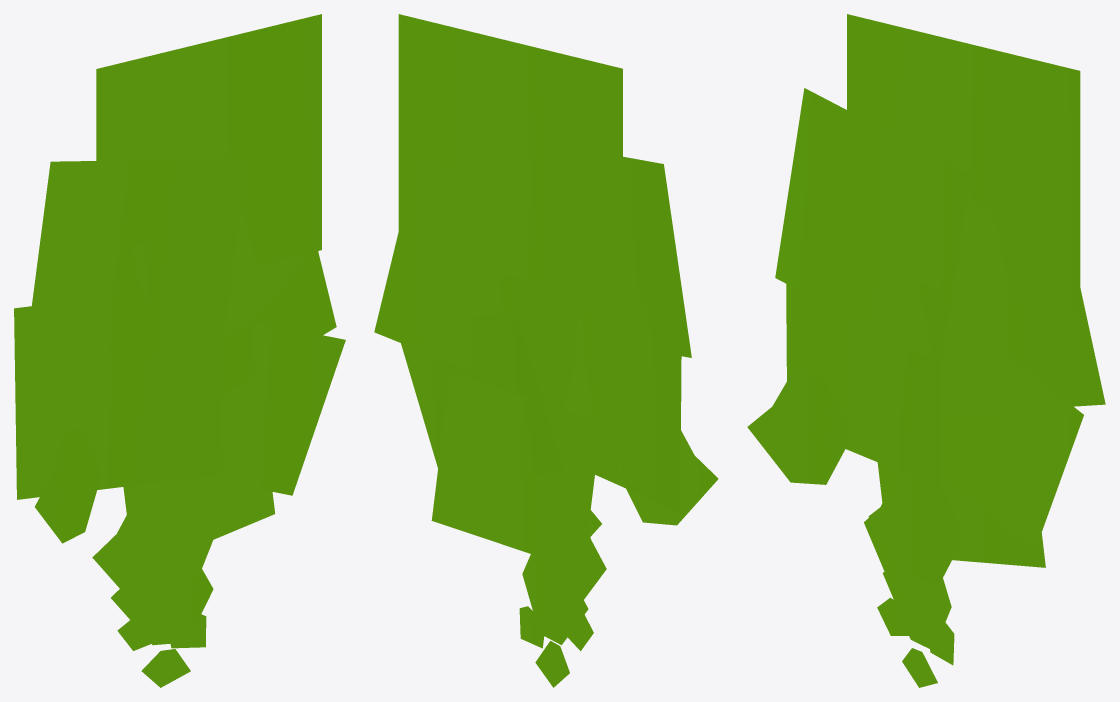
Rendered from prop_Vine2.glb.
The picture shows the model from 3 angles, left to right: view 1: azimuth 30°, elevation 25°; view 2: azimuth 150°, elevation 25°; view 3: azimuth 330°, elevation 25°; orthographic projection. The views are drawn at different scales.
Parts seen in each view (by area): view 1: Prop_Vine2; view 2: Prop_Vine2; view 3: Prop_Vine2.
Boxes of the visible parts, bbox=[...] form: Prop_Vine2: bbox=[14, 14, 345, 687]; Prop_Vine2: bbox=[374, 14, 718, 687]; Prop_Vine2: bbox=[747, 14, 1105, 687].
Size of the model in its own units: 1.39 by 2.6 by 0.2138.
1 material, 1 textured.
